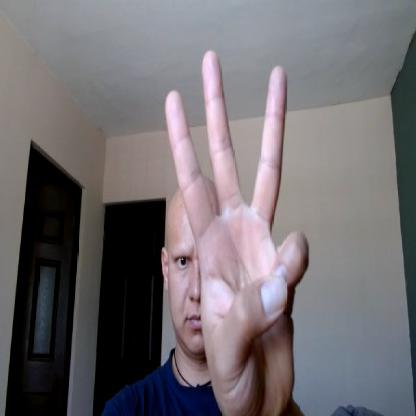W: (165, 45, 309, 415)
